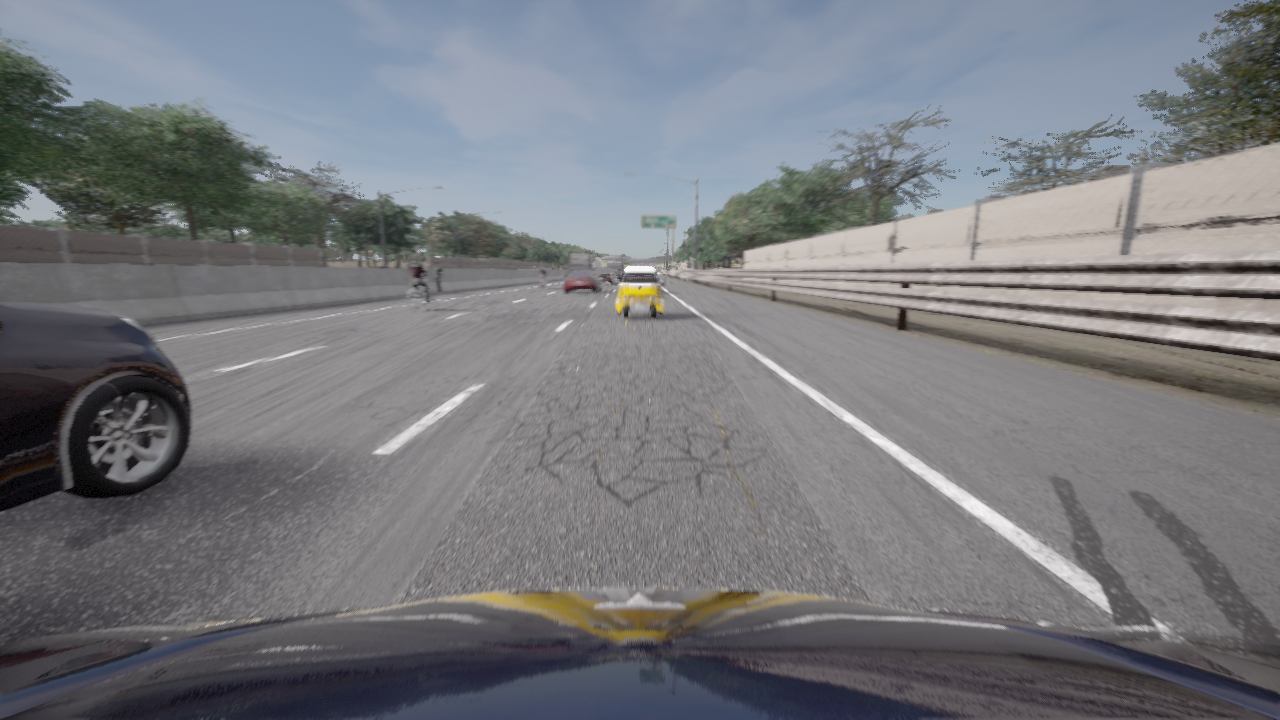cyclist: (0, 588, 1279, 719), (614, 267, 665, 319), (564, 253, 596, 279), (564, 270, 601, 292), (408, 279, 432, 311), (604, 255, 627, 280), (594, 269, 614, 284), (541, 278, 546, 287)
pedestrian: (434, 261, 443, 294)
